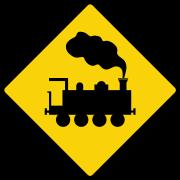Barrier Ahead: (8, 16, 167, 167)
